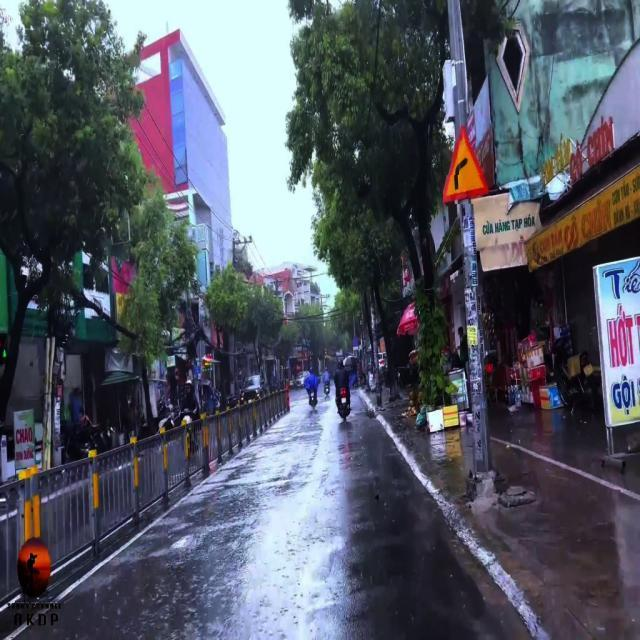201-cho-ngoat-nguy-hiem: (442, 126, 488, 206)
